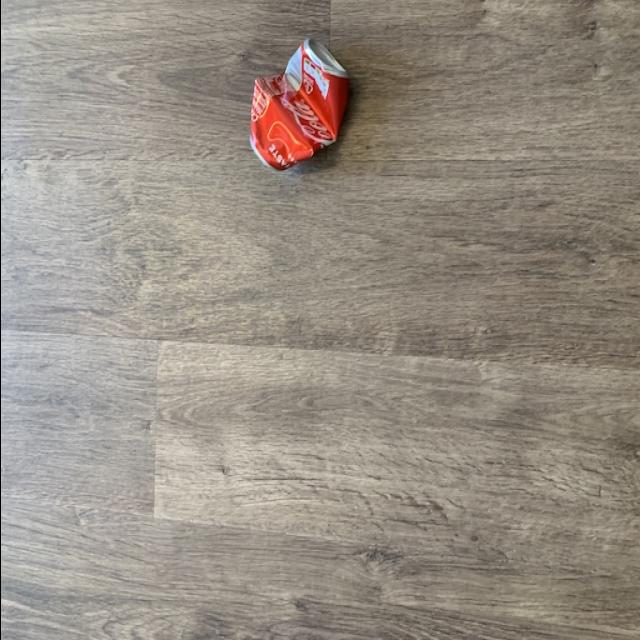Aluminum Can: (232, 25, 358, 206)
